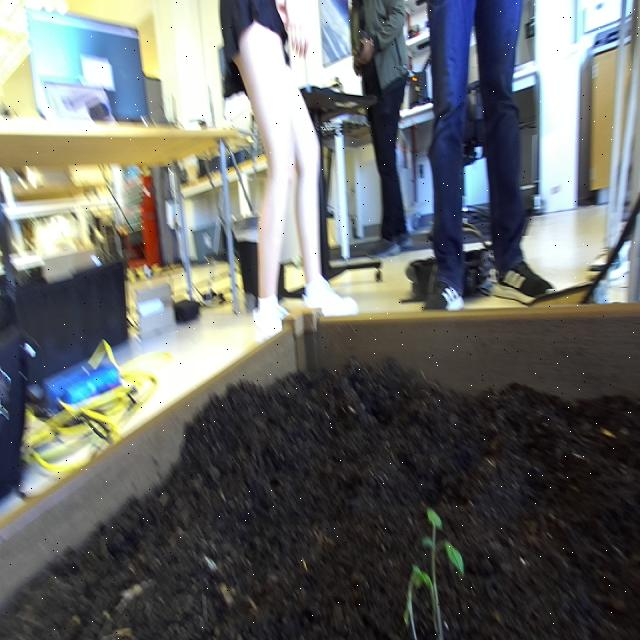Healthy: (393, 494, 472, 640)
